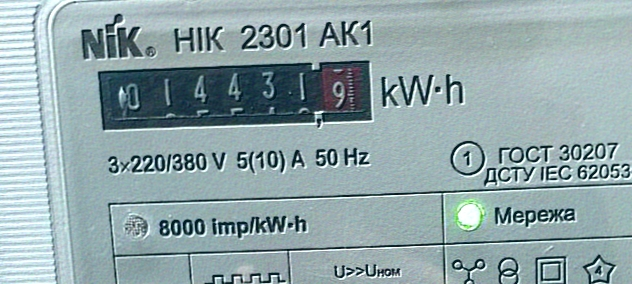0: (124, 77, 144, 110)
1: (160, 72, 178, 105), (297, 67, 310, 99)
3: (260, 67, 279, 99)
4: (191, 69, 212, 102), (226, 66, 244, 100)
9: (331, 75, 348, 106)
screen: (91, 50, 386, 136)
